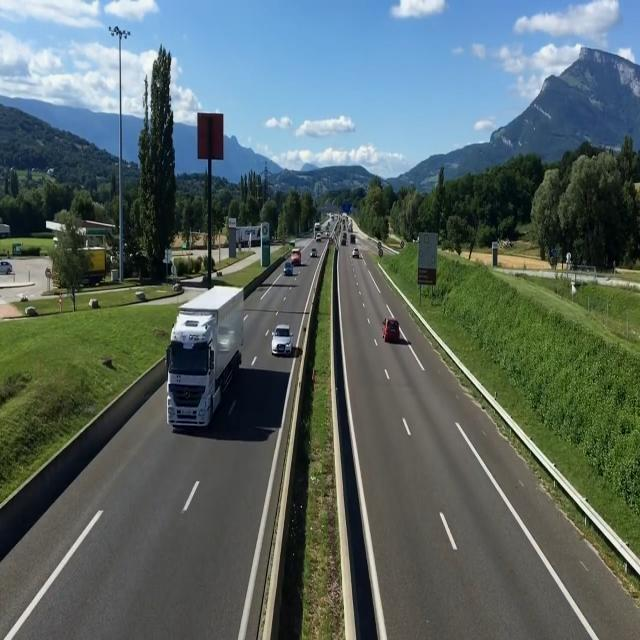Car: (271, 323, 294, 358), (382, 317, 400, 343), (0, 260, 13, 275), (284, 260, 293, 276), (309, 247, 318, 258), (351, 248, 360, 258)
Truck: (163, 284, 245, 428), (314, 222, 321, 238)
